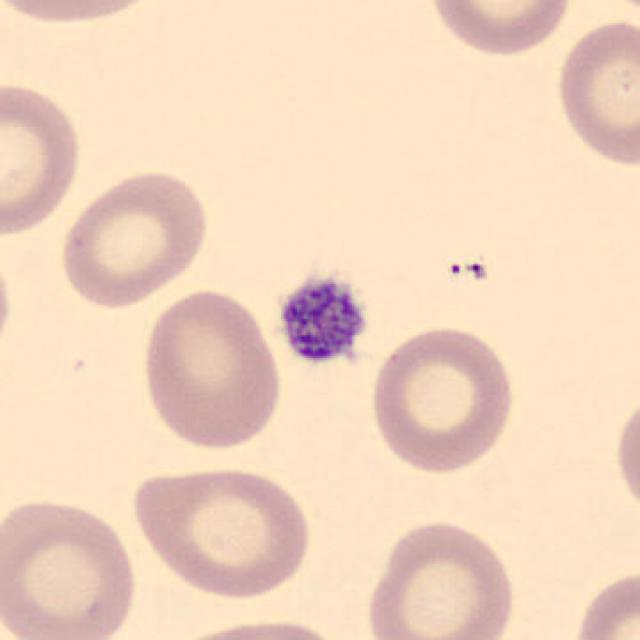Platelets: (272, 270, 372, 366)
RBC: (128, 460, 316, 603), (137, 284, 286, 453), (365, 321, 519, 478), (55, 164, 213, 310), (0, 490, 144, 640), (361, 516, 519, 640), (0, 76, 87, 240), (550, 14, 638, 171), (423, 0, 576, 60), (567, 564, 640, 640), (156, 613, 355, 640), (0, 0, 171, 30), (610, 384, 640, 529), (0, 236, 16, 368), (581, 0, 640, 21)
